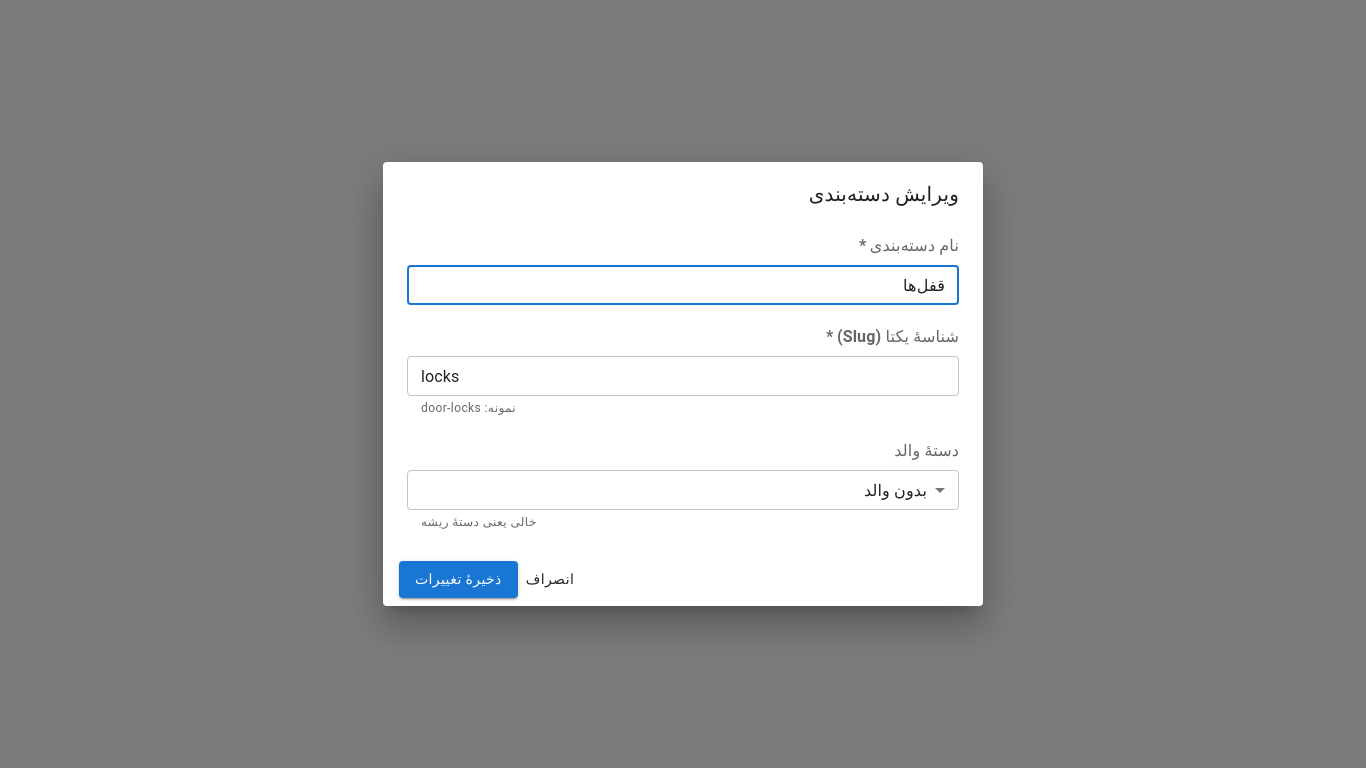
Scenario: CategoryDialog › excludes the edited category from its own parent picker
Expected: the heading "ویرایش دسته‌بندی" is shown, 809,182 -> 959,206
Step 1. Press the mouse on the dropdown named "دستهٔ والد" → (895, 490), box 864,481 -> 927,500
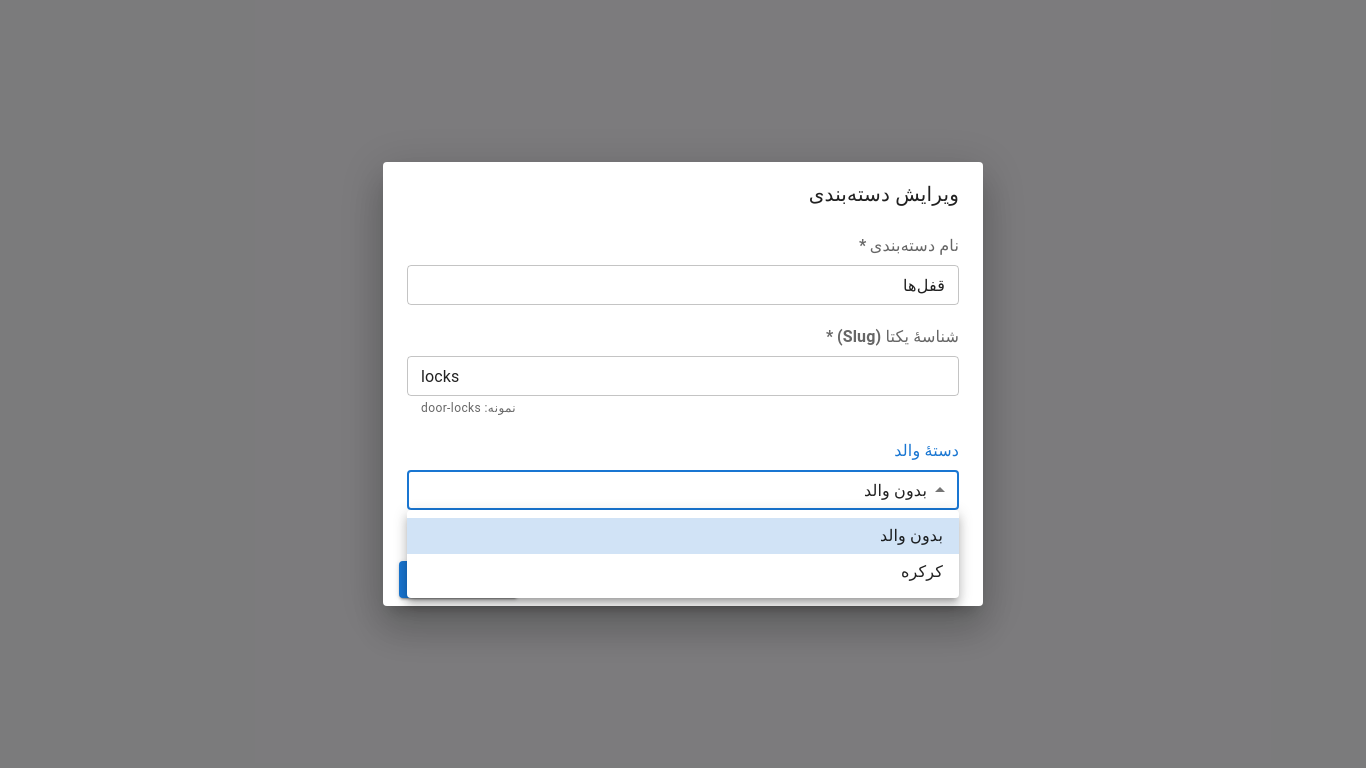
Expected: the options read "بدون والد", "کرکره", in this order, 407,518 -> 959,554; 901,562 -> 943,581
